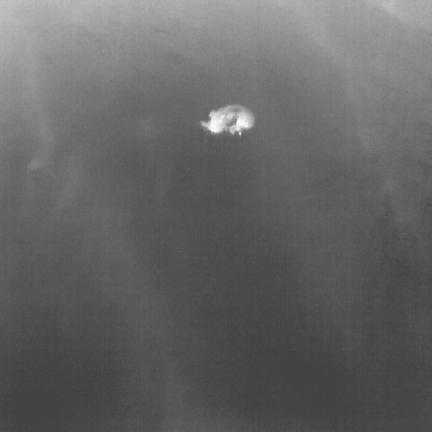flukeprints: (200, 105, 254, 135)
